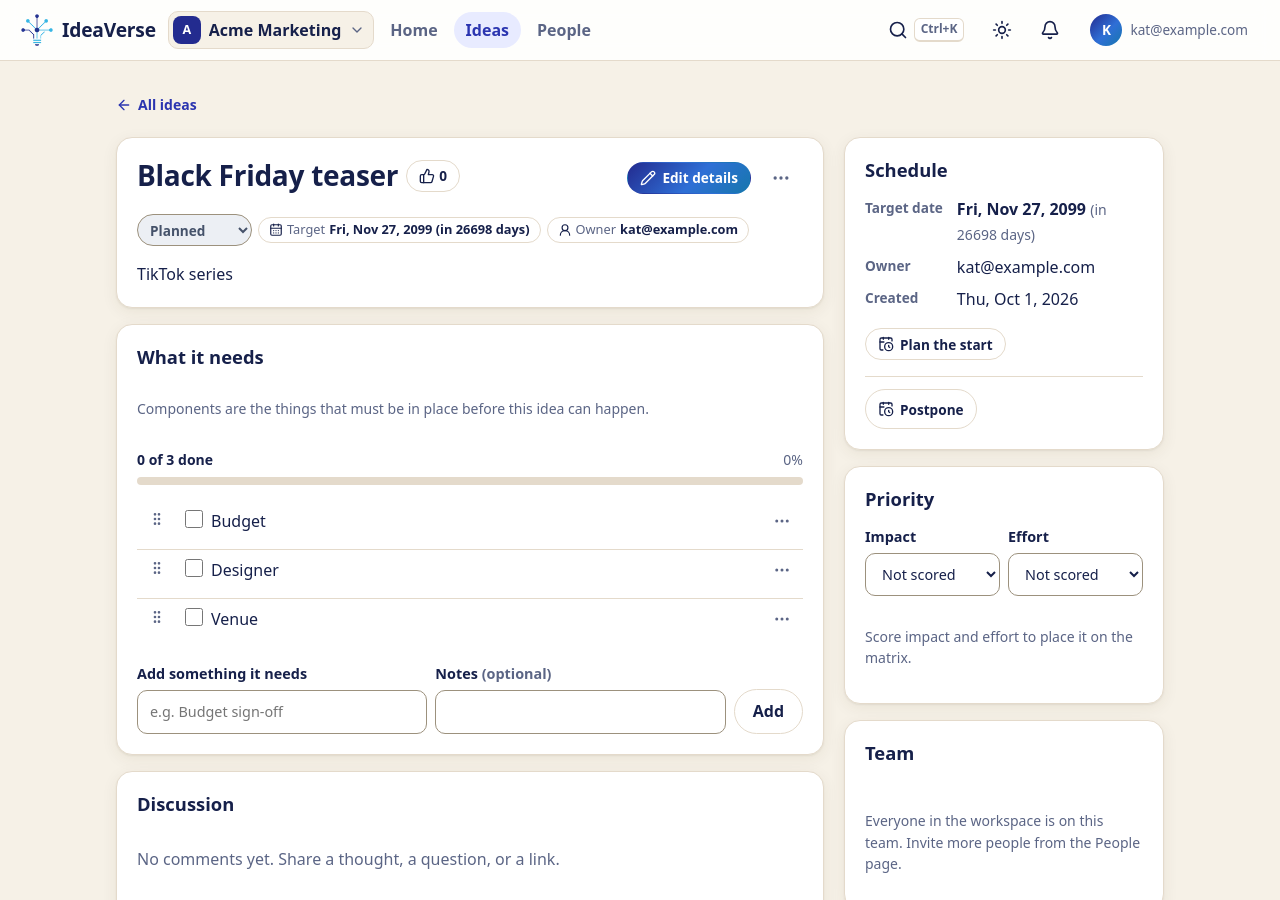
Test: Changing the status from the heading › says so when the status cannot be changed
The image size is (1280, 900).
Select "Done" in the dropdown named "Status": coordinates (194, 230) [137, 214, 252, 246]
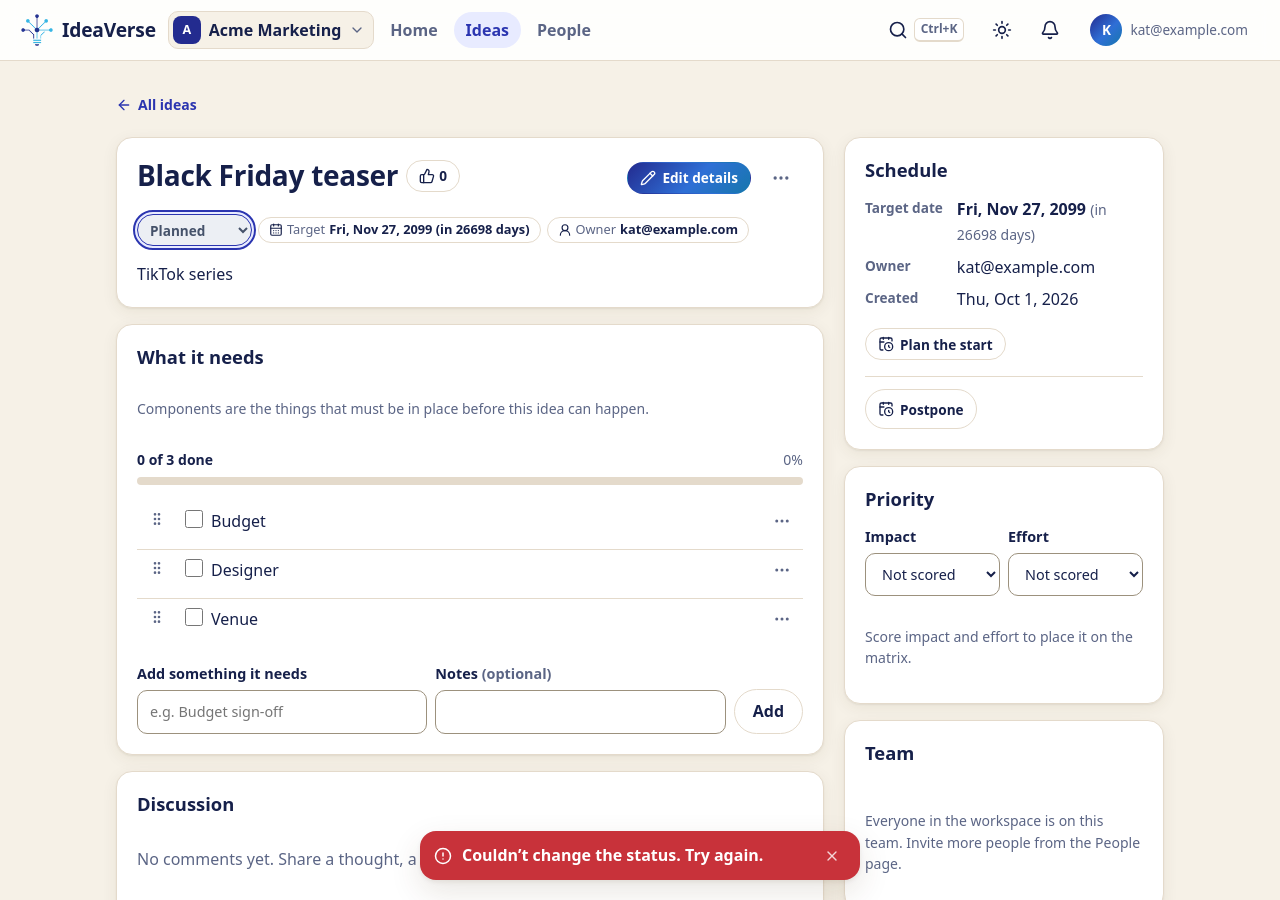
Expected: the text "Couldn’t change the status. Try again." is shown, [462, 843, 808, 868]
